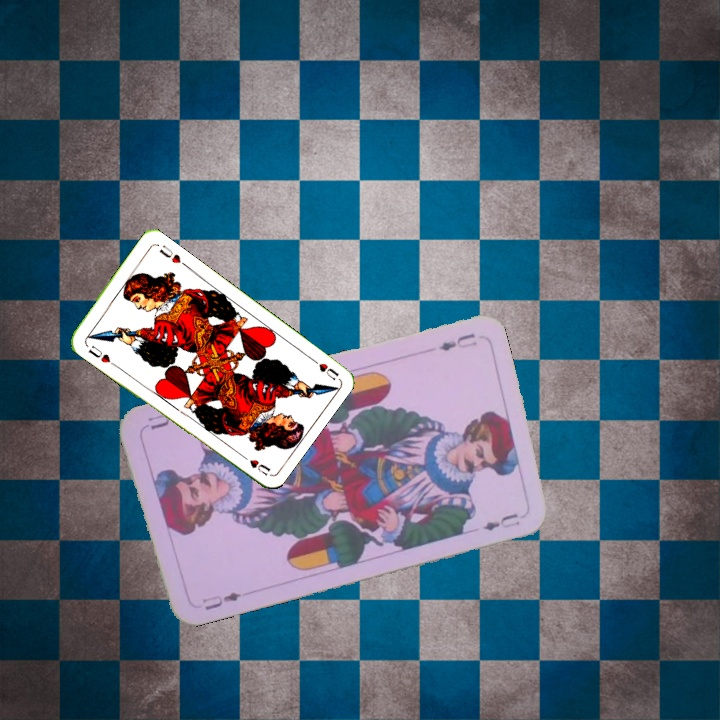EU: (198, 588, 244, 613), (435, 329, 480, 354)
HU: (305, 352, 342, 382), (84, 341, 113, 366)
